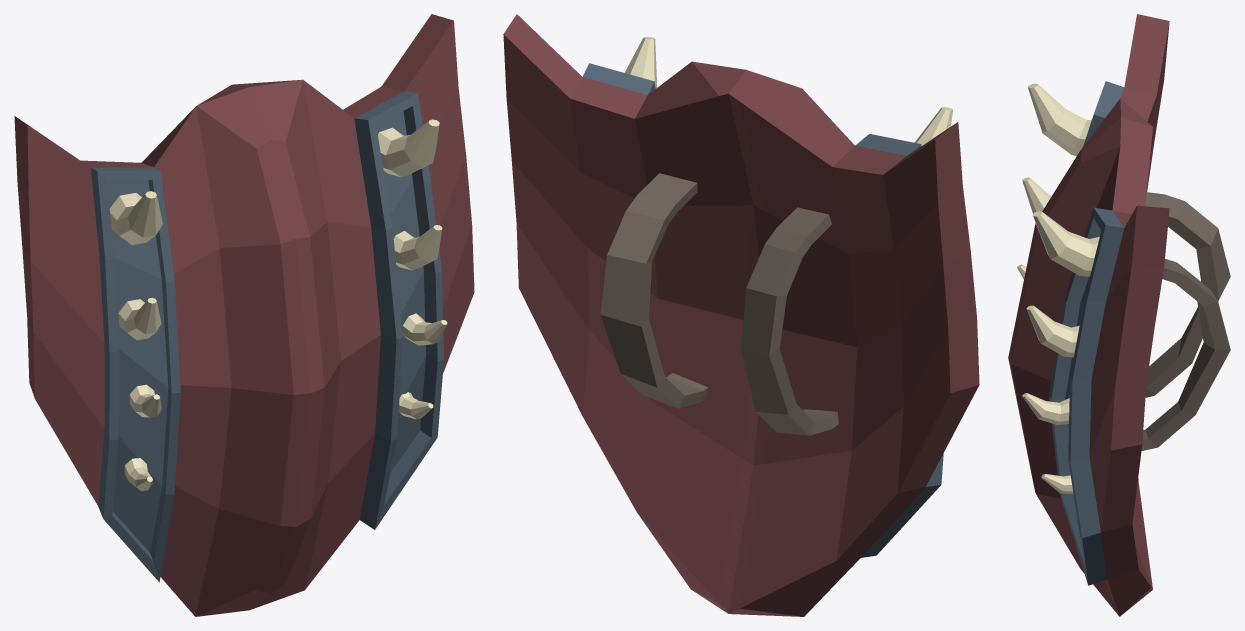
Rendered from SM_ShieldHorned.fbx.
The picture shows the model from 3 angles, left to right: view 1: azimuth 30°, elevation 25°; view 2: azimuth 150°, elevation 25°; view 3: azimuth 270°, elevation 25°; orthographic projection. The views are drawn at different scales.
Visible parts, largest first — view 1: SM_ShieldHorned; view 2: SM_ShieldHorned; view 3: SM_ShieldHorned.
Boxes of the visible parts, bbox=[...] form: SM_ShieldHorned: bbox=[14, 14, 474, 616]; SM_ShieldHorned: bbox=[503, 14, 979, 616]; SM_ShieldHorned: bbox=[1008, 14, 1230, 616].
Bounding box in the file's own units: 35.63 × 41.19 × 16.98.
